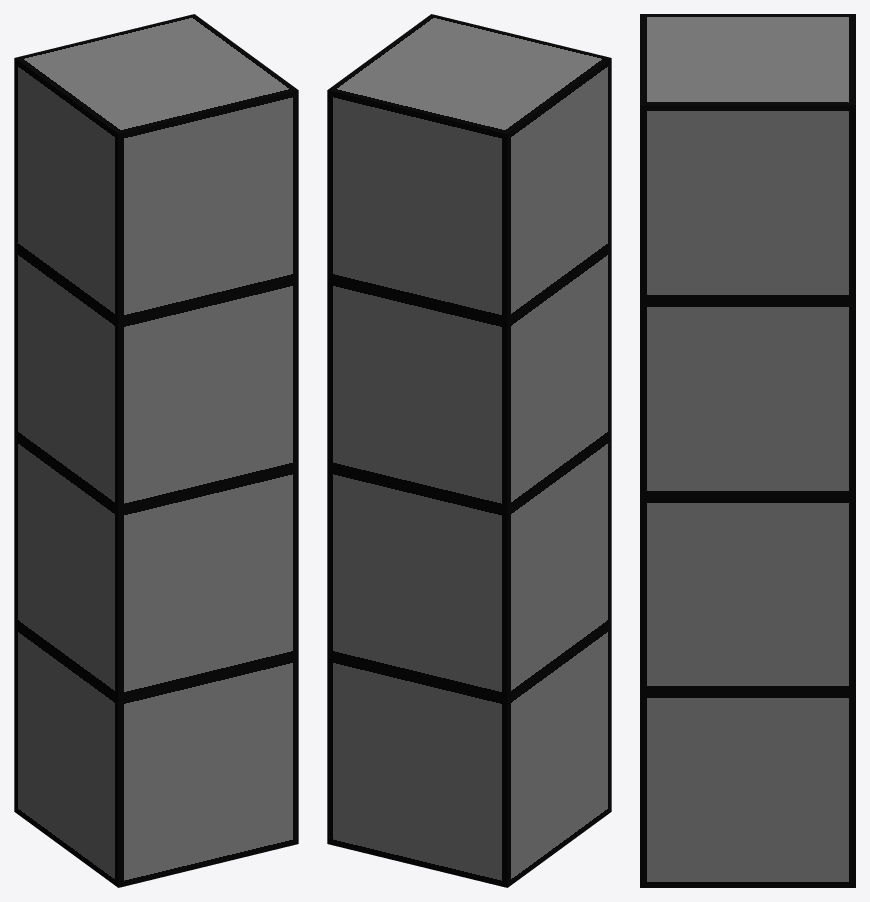
File: WallSect.FBX
The picture shows the model from 3 angles, left to right: view 1: azimuth 30°, elevation 25°; view 2: azimuth 150°, elevation 25°; view 3: azimuth 270°, elevation 25°; orthographic projection. The views are drawn at different scales.
Parts seen in each view (by area): view 1: Box01; view 2: Box01; view 3: Box01.
Boxes of the visible parts, x1=… form: Box01: x1=14, y1=14, x2=298, y2=887; Box01: x1=327, y1=14, x2=611, y2=887; Box01: x1=640, y1=14, x2=855, y2=887.
Size of the model in its own units: 100 by 400 by 100.
